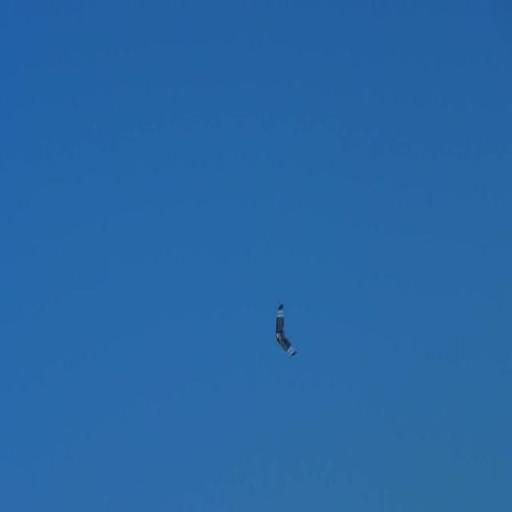uav: (271, 300, 299, 360)
